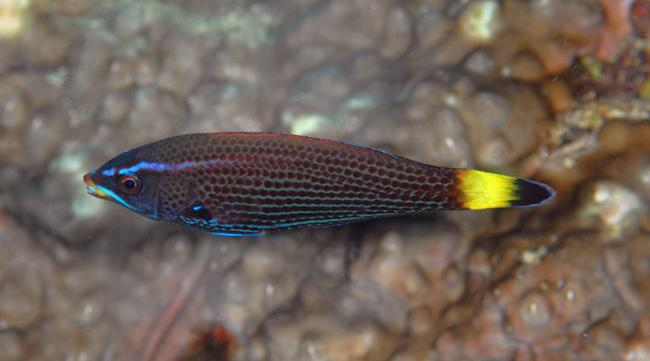fish: (83, 131, 558, 238)
